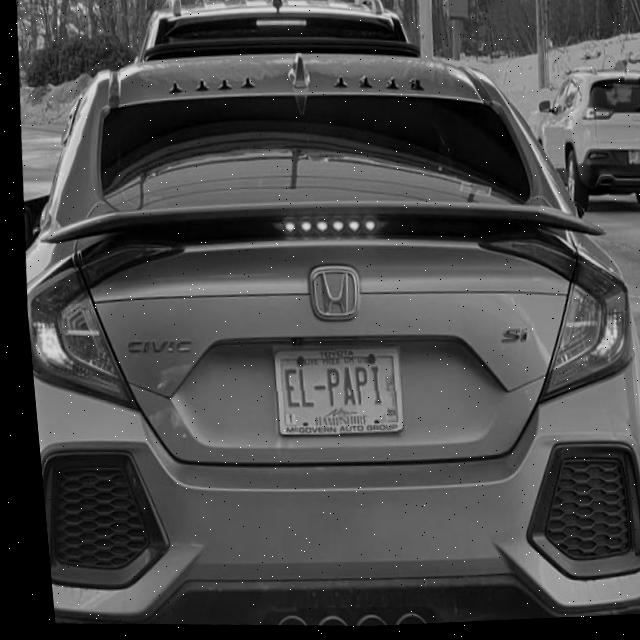LicensePlate: (266, 350, 395, 437)
